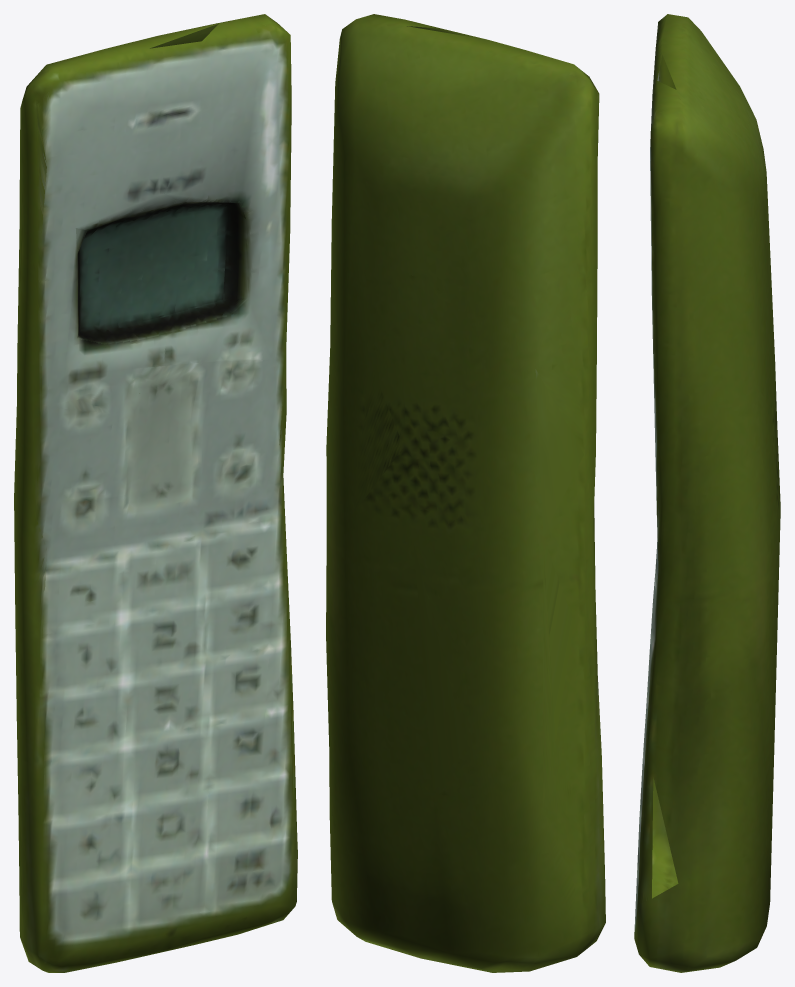
Rendered from phone.dae.
3 views of the same model, side by side, from view 1: azimuth 30°, elevation 25°; view 2: azimuth 150°, elevation 25°; view 3: azimuth 270°, elevation 25° (orthographic). The views are drawn at different scales.
Visible parts, largest first — view 1: _3_Phone_001; view 2: _3_Phone_001; view 3: _3_Phone_001.
Part boxes in pixels (<box>): _3_Phone_001: <box>14,14,297,972</box>; _3_Phone_001: <box>326,14,605,972</box>; _3_Phone_001: <box>634,14,780,972</box>.
Bounding box in the file's own units: 0.0483 × 0.0248 × 0.1616.
1 material, 1 textured.
